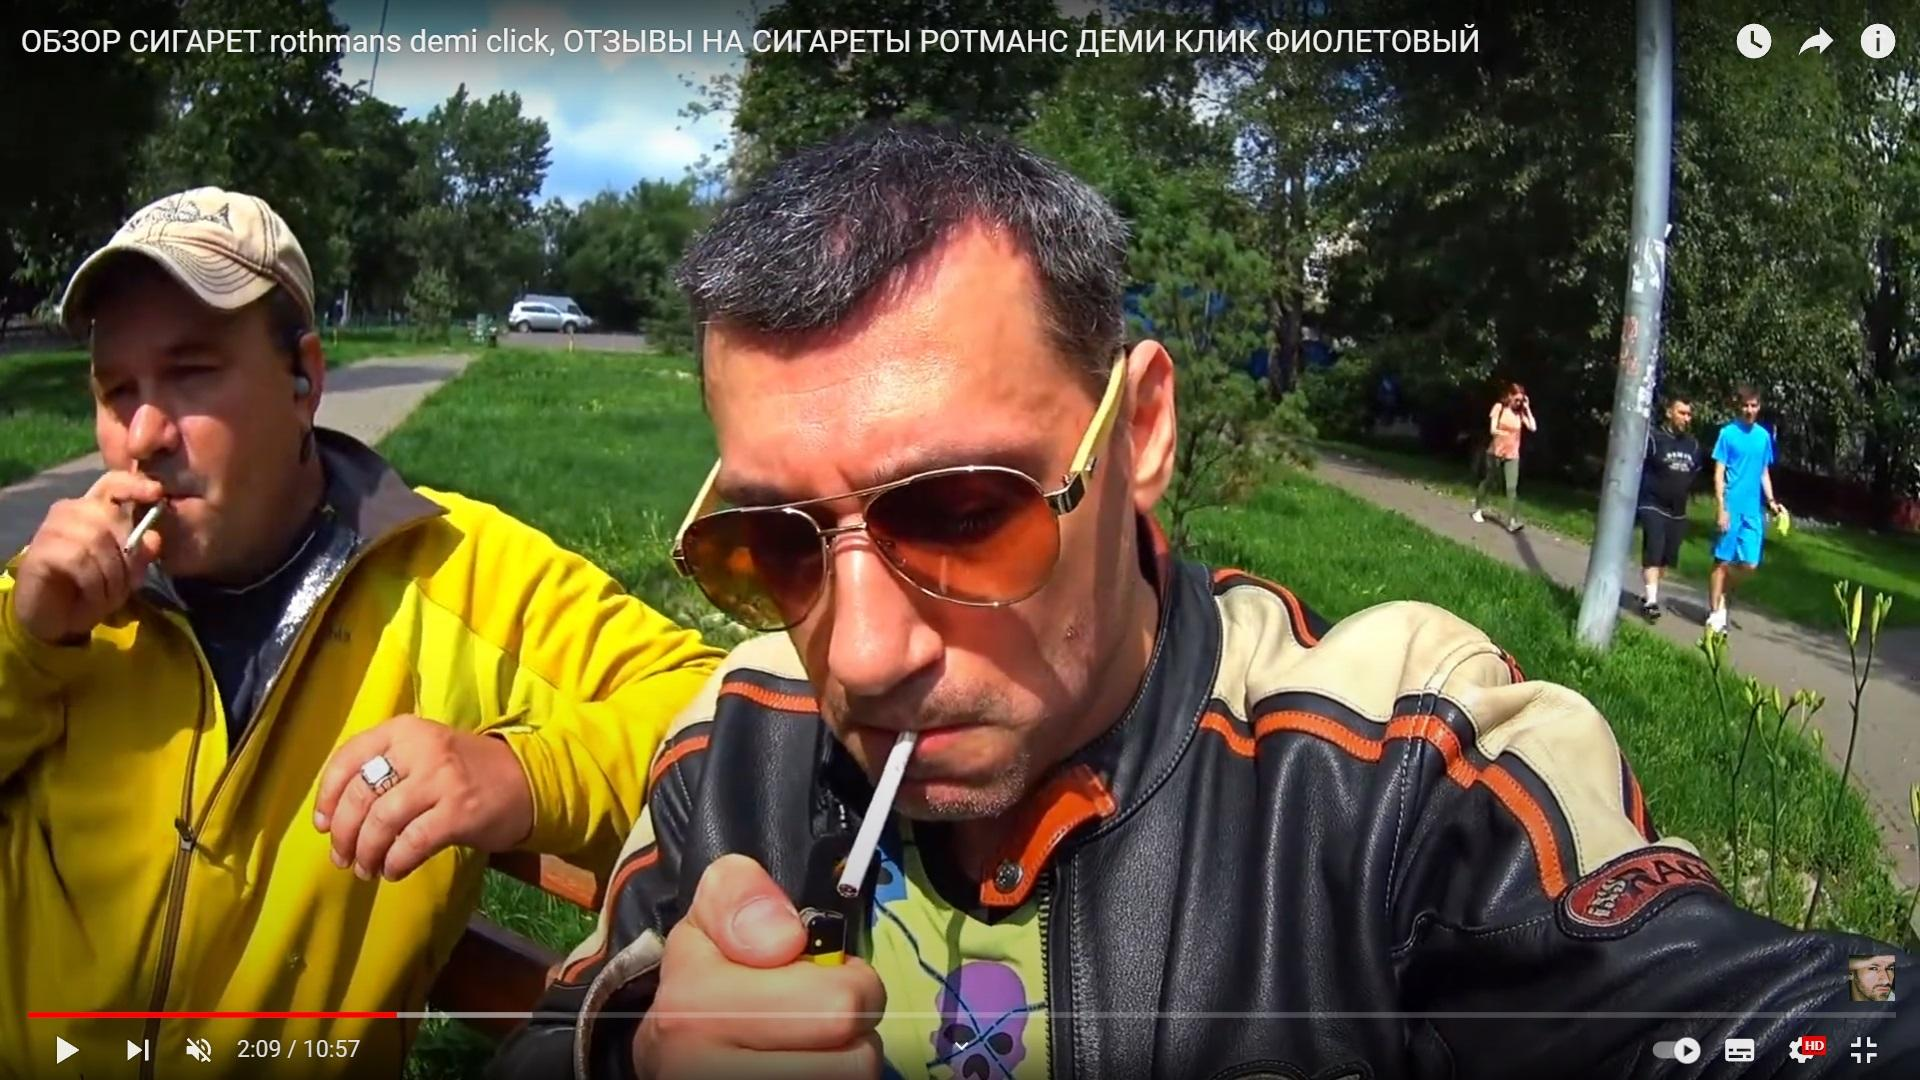cigarette: (839, 727, 920, 901), (124, 495, 171, 553)
